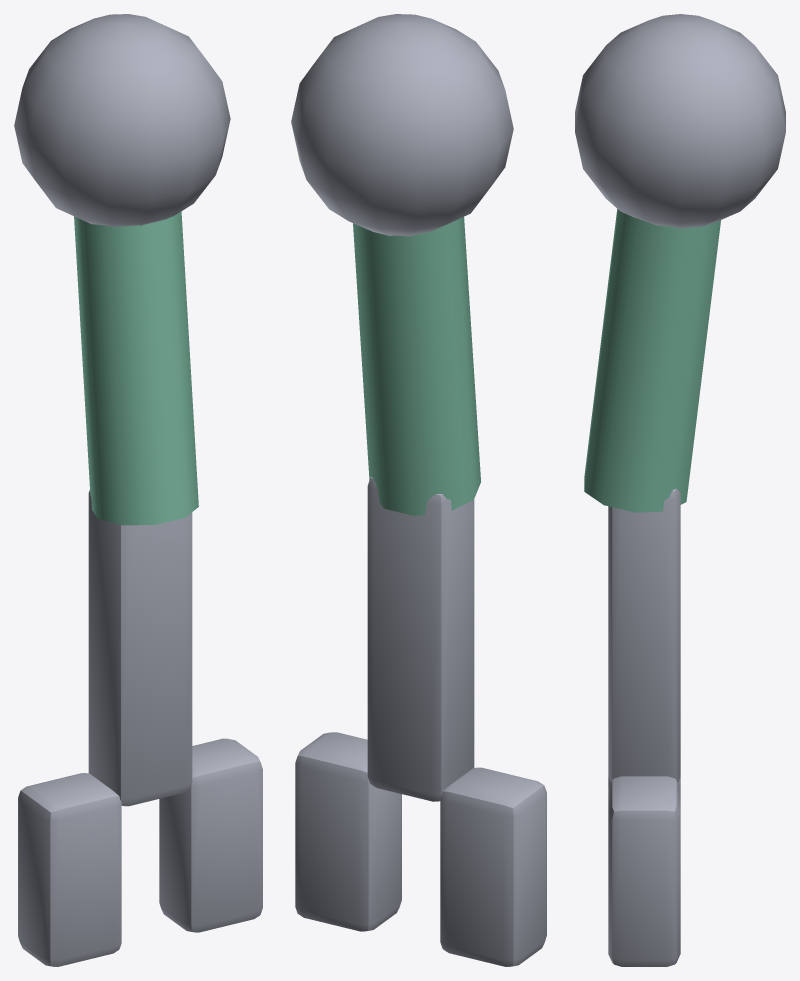
Rendered from Bot_ArmWrench.fbx.
3 renders of one model, left to right at view 1: azimuth 30°, elevation 25°; view 2: azimuth 150°, elevation 25°; view 3: azimuth 270°, elevation 25°, orthographic. The views are drawn at different scales.
Parts seen in each view (by area): view 1: Bot_ArmWrench; view 2: Bot_ArmWrench; view 3: Bot_ArmWrench.
Part boxes in pixels (x1,y1,x2,y2): Bot_ArmWrench: (14,14,262,966); Bot_ArmWrench: (291,14,546,966); Bot_ArmWrench: (575,14,785,966).
Bounding box in the file's own units: 0.056 × 0.219 × 0.0468.
